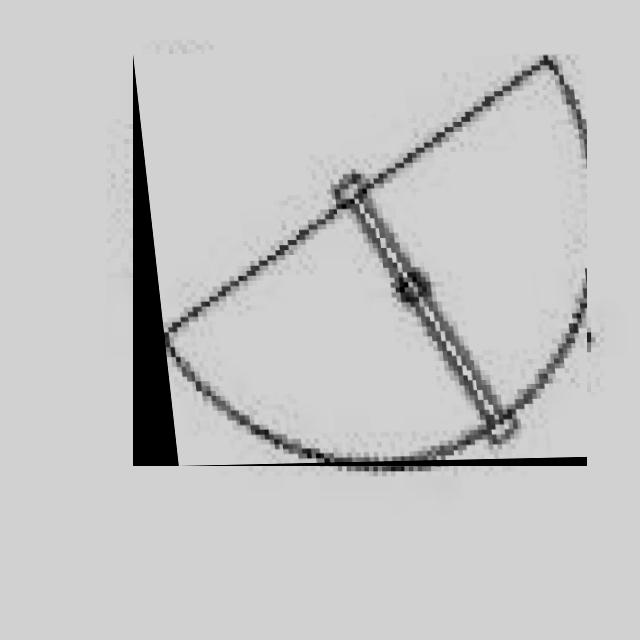door: (133, 54, 587, 467)
